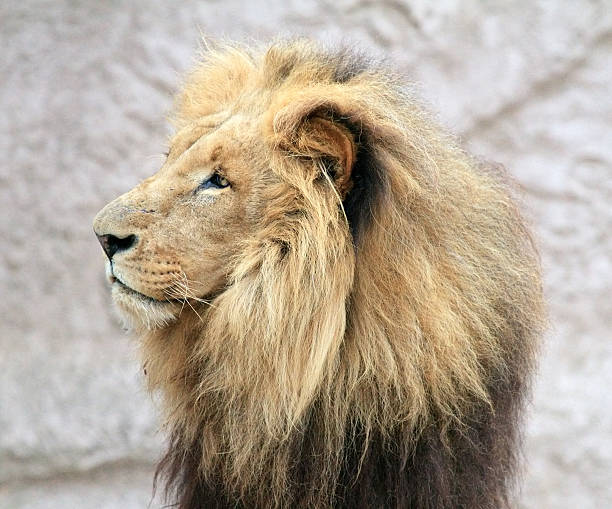lion: (55, 28, 551, 490)
